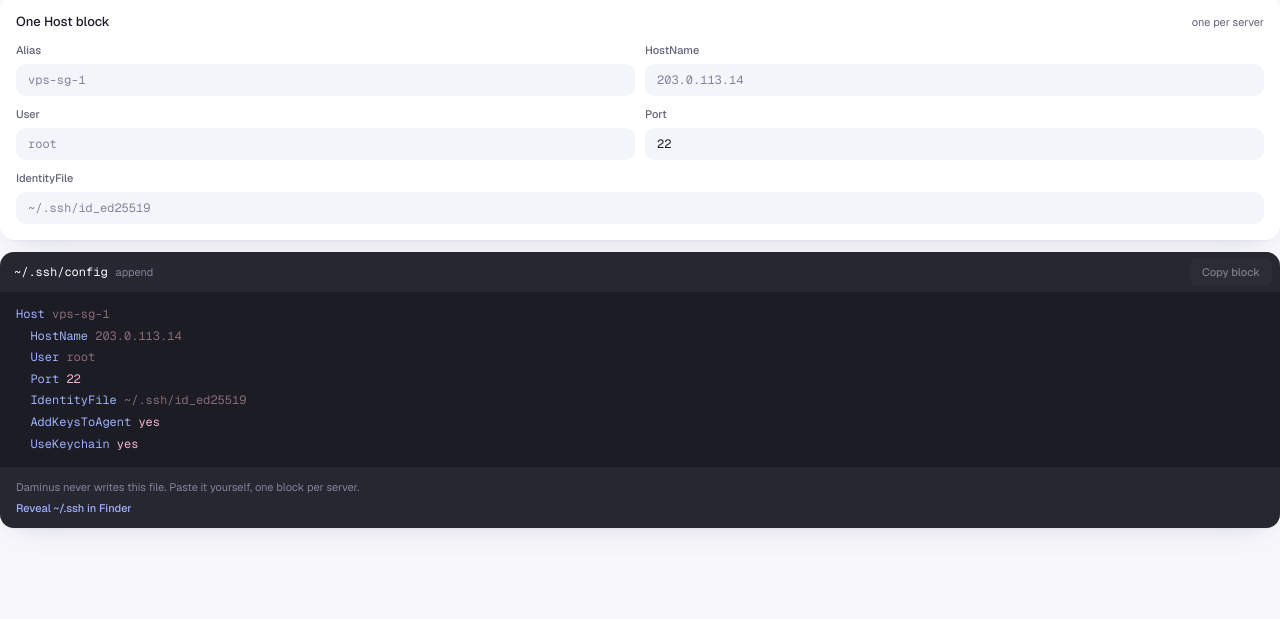
Test: HostBlockForm › names what is wrong in the field, in words
Type "my server" into the field labelled "Alias" at (326,80), box [28,64,623,96]
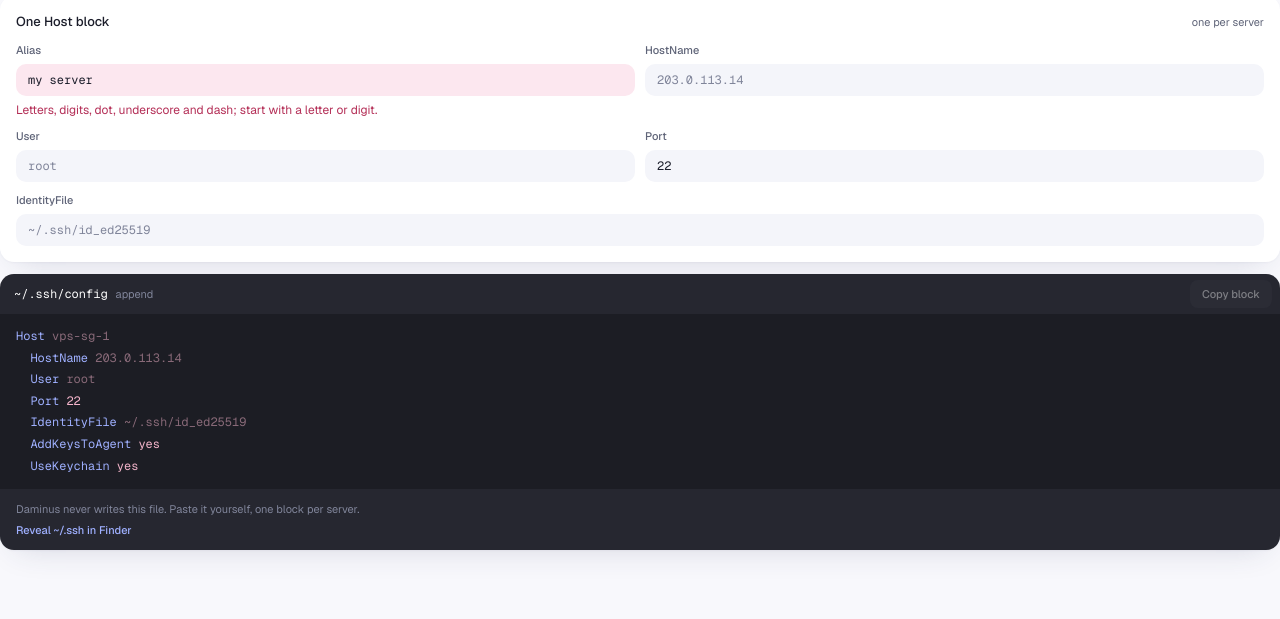
Type "a b" into the field labelled "HostName" at (954,80), box [657,64,1252,96]
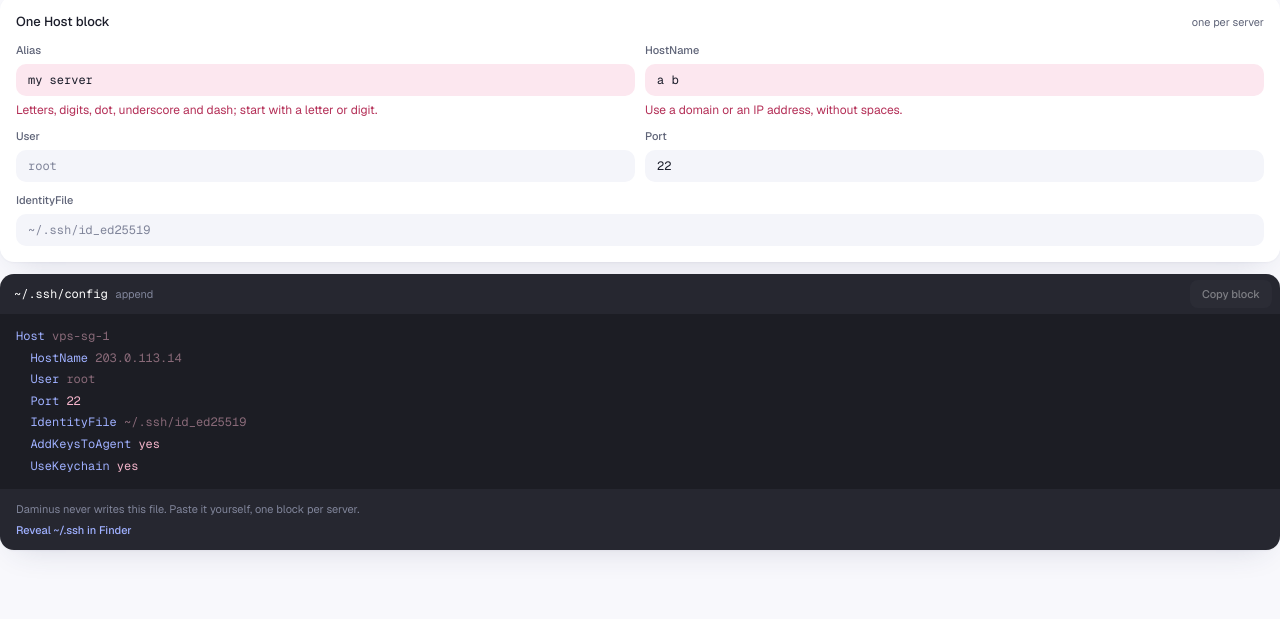
Type "-x" into the field labelled "User" at (326,166), box [28,150,623,182]
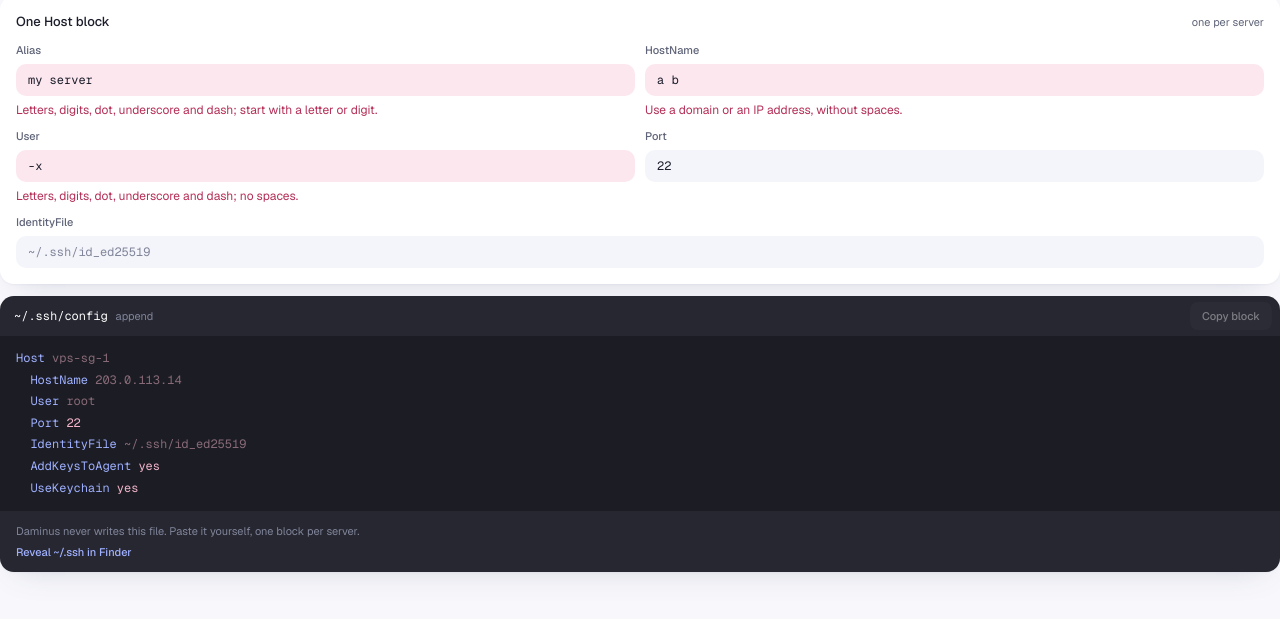
Type "70000" into the field labelled "Port" at (954,166), box [657,150,1252,182]
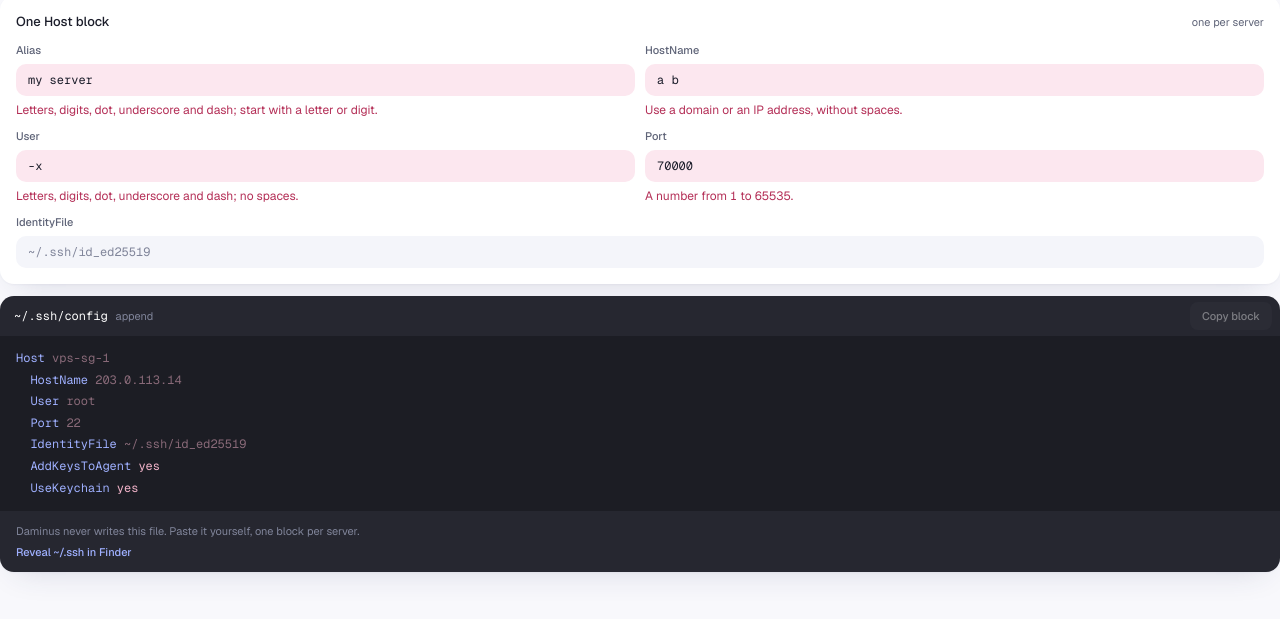
Type "key" into the field labelled "IdentityFile" at (640,252), box [28,236,1252,268]
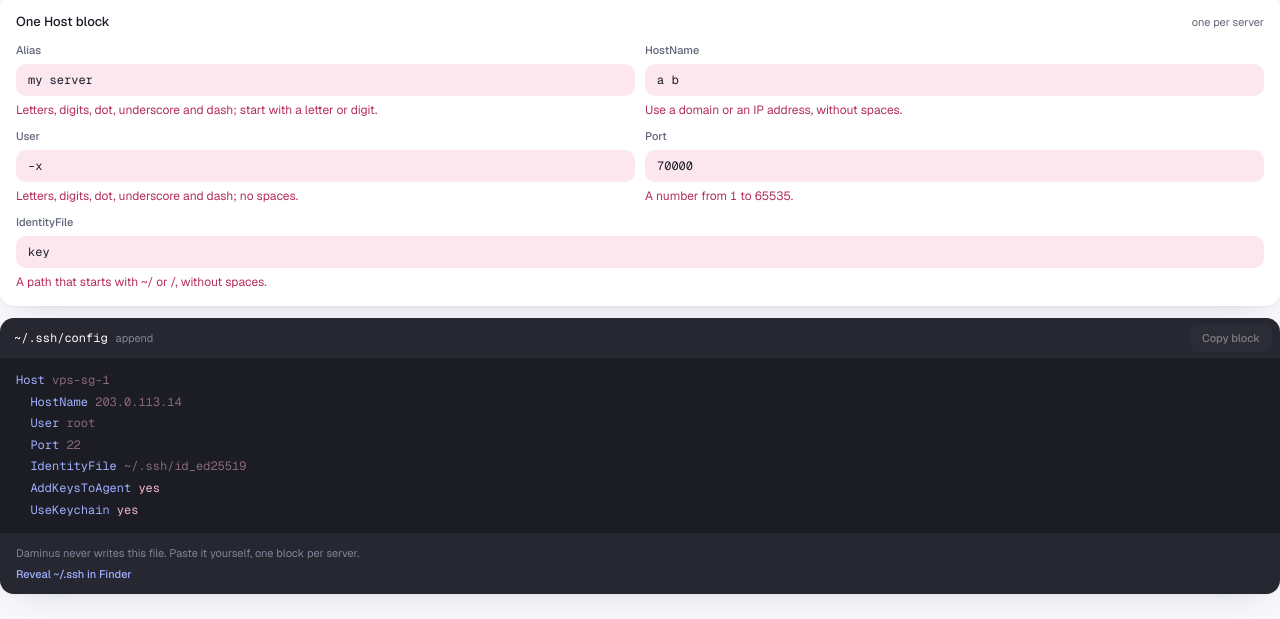
Expected: the number of fields is 5, [28,64,623,96]; [657,64,1252,96]; [28,150,623,182]; [657,150,1252,182]; [28,236,1252,268]
Expected: the elements with class "note" read "Letters, digits, dot, underscore and dash; start with a letter or digit.", "Use a domain or an IP address, without spaces.", "Letters, digits, dot, underscore and dash; no spaces.", "A number from 1 to 65535.", "A path that starts with ~/ or /, without spaces.", in this order, [16,102,377,118]; [645,102,902,118]; [16,188,298,204]; [645,188,793,204]; [16,274,267,290]
